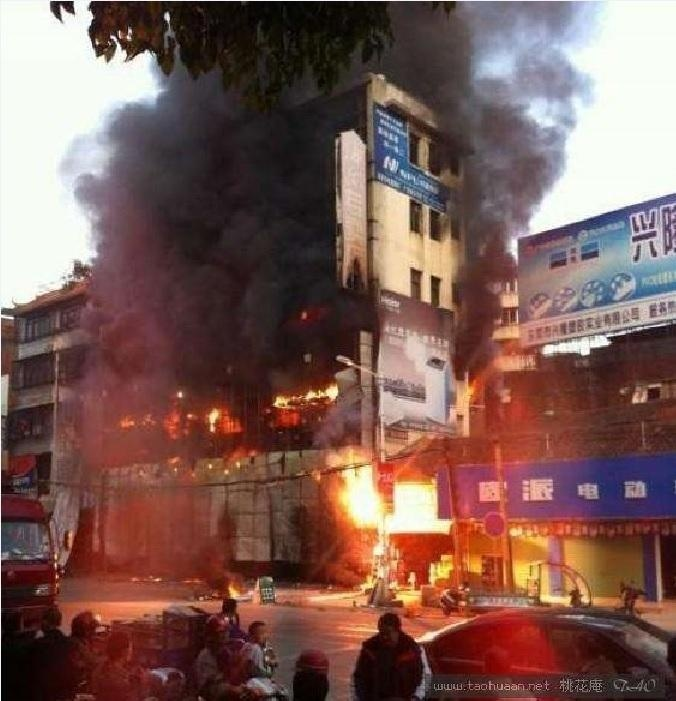fire: (332, 456, 440, 536), (269, 382, 338, 411)
